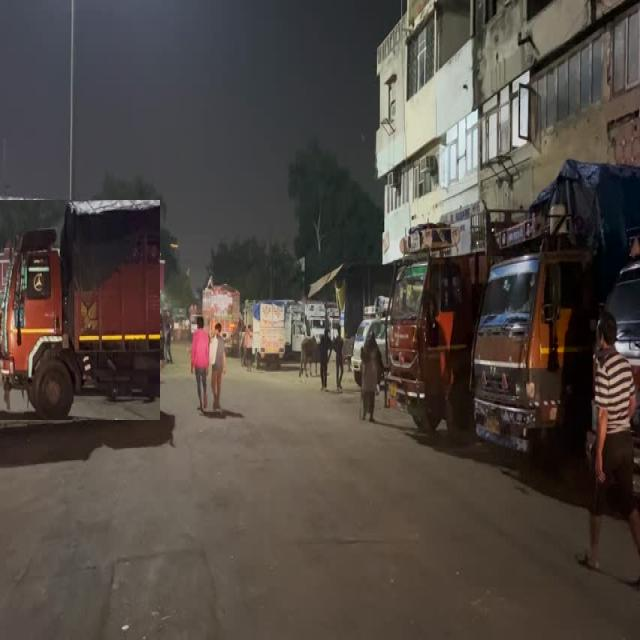truck: (0, 200, 160, 420)
